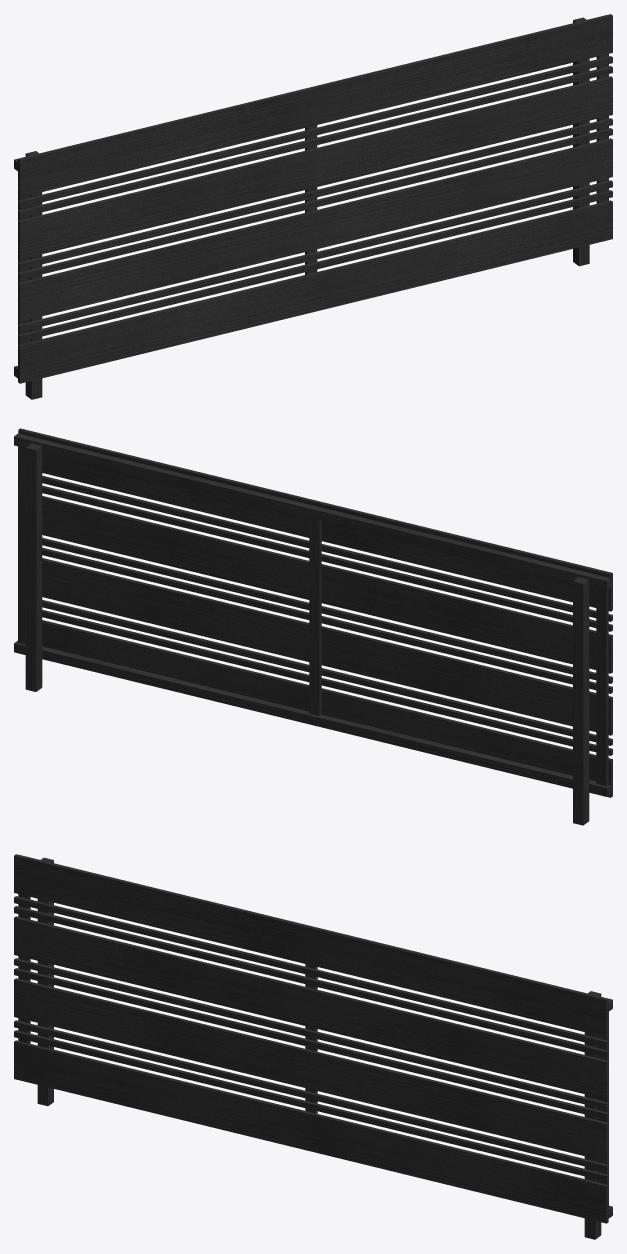
Rendered from EAF-plus-120-18_w1999-h800_chacoalgrey.fbx.
3 renders of one model, top to bottom at view 1: azimuth 30°, elevation 25°; view 2: azimuth 150°, elevation 25°; view 3: azimuth 330°, elevation 25°, orthographic.
Parts seen in each view (by area): view 1: EAF-plus-120-18_w1999-h800_chacoalgray.001; view 2: EAF-plus-120-18_w1999-h800_chacoalgray.001; view 3: EAF-plus-120-18_w1999-h800_chacoalgray.001.
Part boxes in pixels (bbox=[...]): EAF-plus-120-18_w1999-h800_chacoalgray.001: bbox=[14, 14, 612, 399]; EAF-plus-120-18_w1999-h800_chacoalgray.001: bbox=[14, 428, 612, 825]; EAF-plus-120-18_w1999-h800_chacoalgray.001: bbox=[14, 854, 612, 1239].
Bounding box in the file's own units: 200 × 80 × 7.
1 material, 1 textured.
